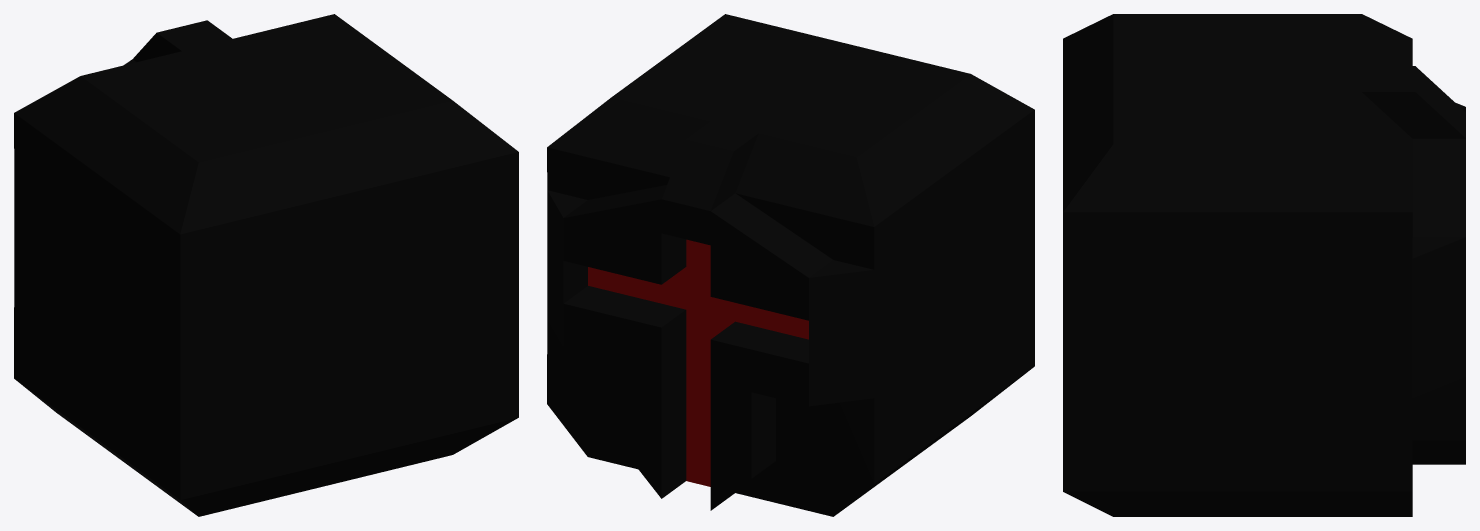
The model's file is BossHead.obj.
3 renders of one model, left to right at view 1: azimuth 30°, elevation 25°; view 2: azimuth 150°, elevation 25°; view 3: azimuth 270°, elevation 25°, orthographic. The views are drawn at different scales.
Visible parts, largest first — view 1: 立方体_立方体.001; view 2: 立方体_立方体.001; view 3: 立方体_立方体.001.
Boxes of the visible parts, left/top/right/bottom form: 立方体_立方体.001: left=14, top=14, right=518, bottom=516; 立方体_立方体.001: left=547, top=14, right=1034, bottom=516; 立方体_立方体.001: left=1063, top=14, right=1465, bottom=516.
Bounding box in the file's own units: 2 × 2 × 1.96.
1 material, 1 textured.
